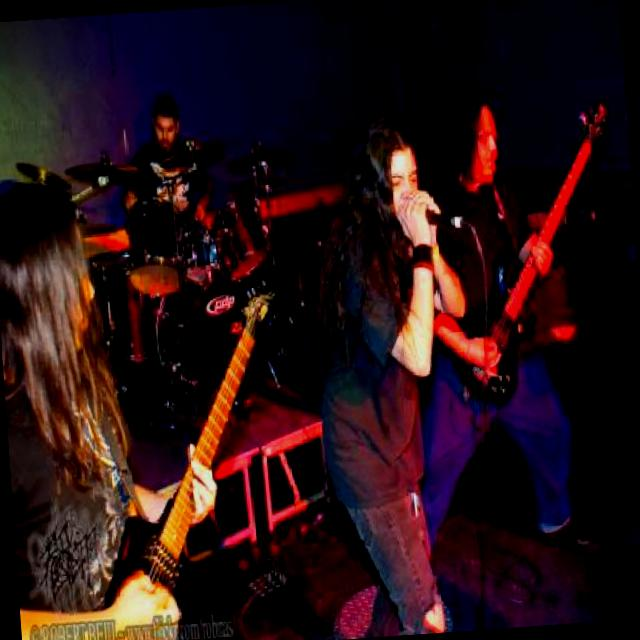Person: (0, 169, 228, 640), (298, 109, 492, 638), (394, 95, 593, 560), (100, 100, 222, 216)
